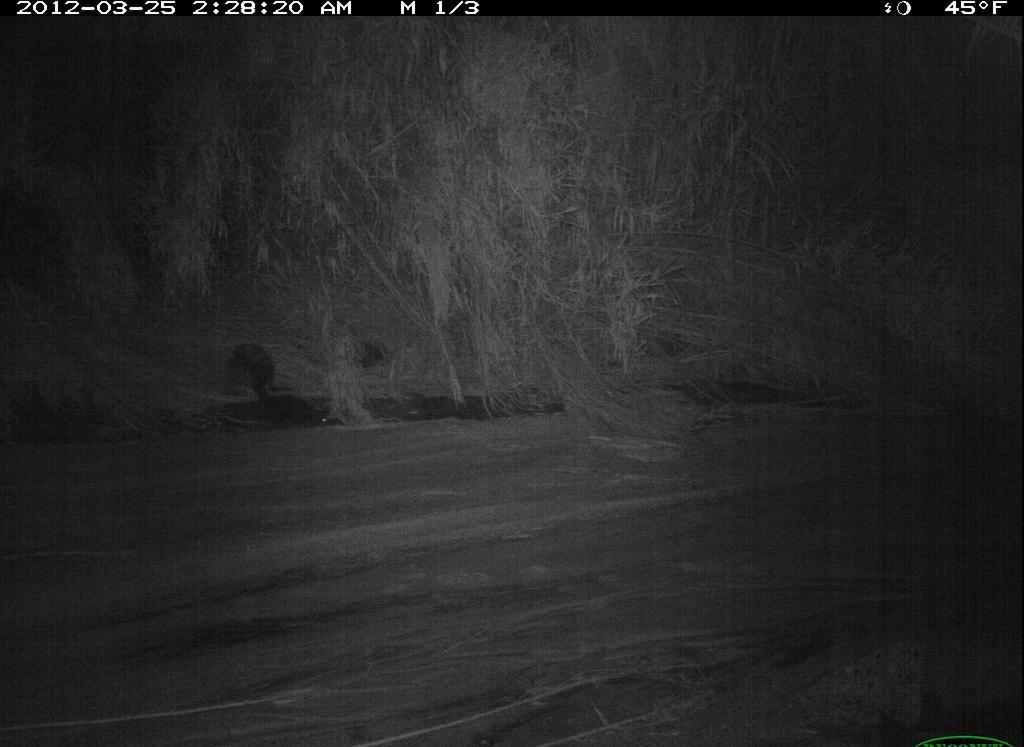skunk: (208, 321, 351, 437)
